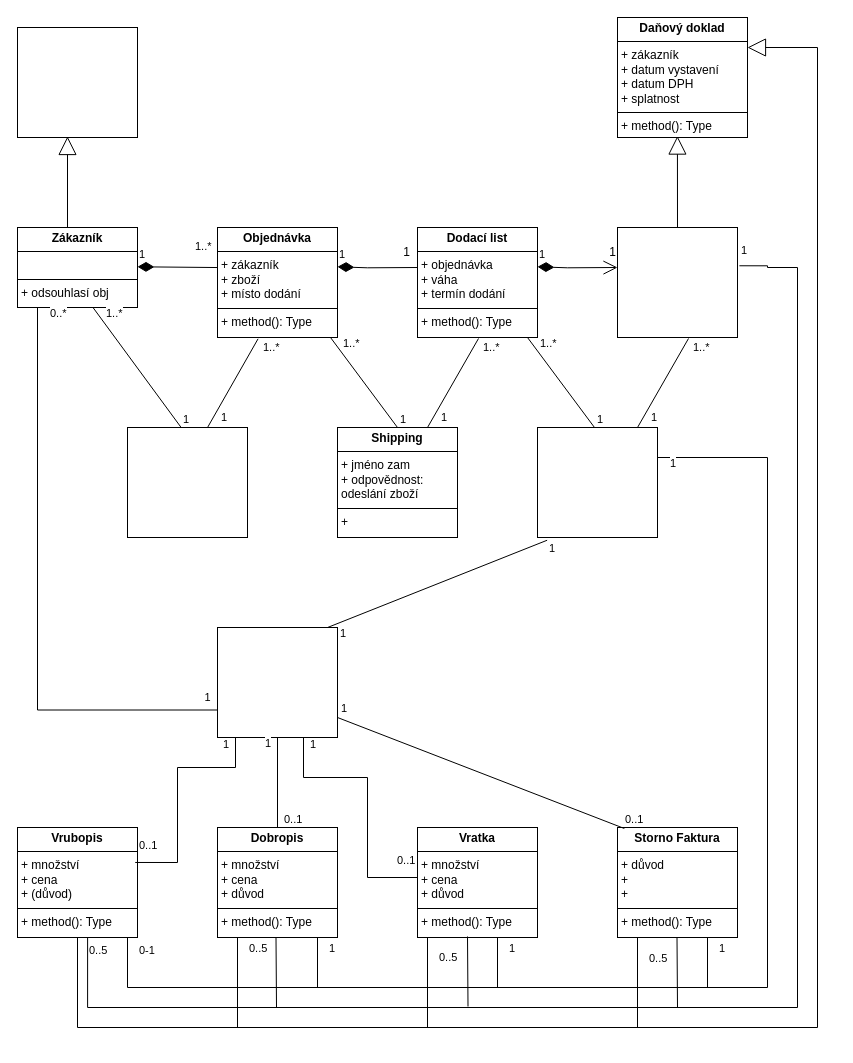
The diagram is 853 pixels wide and 1063 high, and some of its shapes have lost their labels. Each missing label, with the centre of its shape:
"Credit Management + jméno zam + odp: řeší nezaplacené faktury + invoice dispute" belongs at (x=277, y=682).
"CS + jméno zam + odpovědnost: péče o zákazníka +" belongs at (x=187, y=482).
"Faktura + dodací list + + + method(): Type" belongs at (x=677, y=282).
"Firma + název + adresa + DIČ + method(): Type" belongs at (x=77, y=82).
"Invoicing + jméno zam + odp: vystavuje daňové doklady + method(): Type" belongs at (x=597, y=482).
